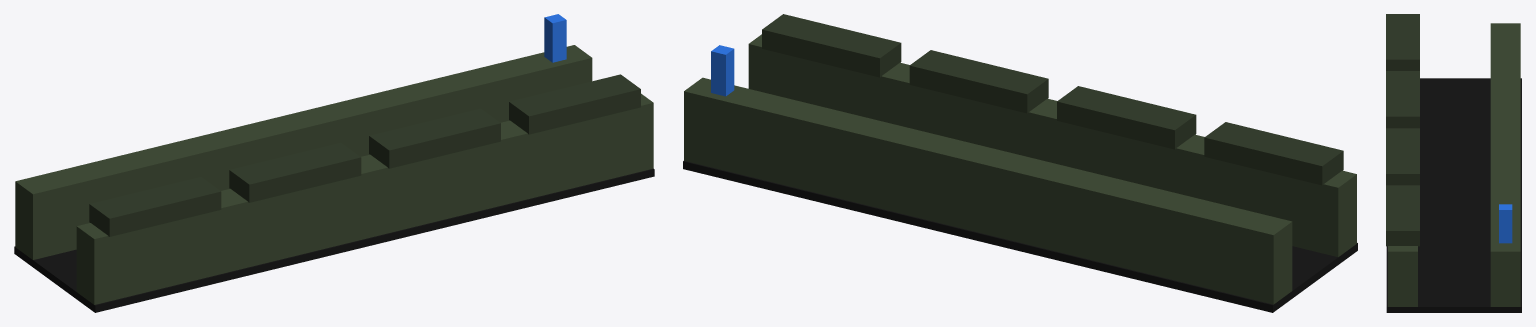
The model's file is ru_trench_line.glb.
3 views of the same model, side by side, from view 1: azimuth 30°, elevation 25°; view 2: azimuth 150°, elevation 25°; view 3: azimuth 270°, elevation 25° (orthographic). The views are drawn at different scales.
Parts seen in each view (by area): view 1: wall_0, wall_1, base, sandbag_1, sandbag_0, sandbag_3, sandbag_2, team_post; view 2: wall_1, wall_0, base, sandbag_0, sandbag_2, sandbag_3, sandbag_1, team_post; view 3: base, wall_1, sandbag_3, sandbag_1, sandbag_2, sandbag_0, wall_0, team_post.
Boxes of the visible parts, <box> form: wall_0: <box>76,93,653,304</box>; wall_1: <box>15,45,592,259</box>; base: <box>14,168,654,312</box>; sandbag_1: <box>229,142,361,202</box>; sandbag_0: <box>89,177,221,236</box>; sandbag_3: <box>509,74,640,134</box>; sandbag_2: <box>369,108,500,168</box>; team_post: <box>544,14,566,62</box>; wall_1: <box>684,77,1292,304</box>; wall_0: <box>748,34,1356,257</box>; base: <box>683,161,1357,312</box>; sandbag_0: <box>1204,122,1343,185</box>; sandbag_2: <box>909,50,1048,113</box>; sandbag_3: <box>762,14,901,77</box>; sandbag_1: <box>1057,86,1196,149</box>; team_post: <box>711,45,734,96</box>; base: <box>1386,78,1521,312</box>; wall_1: <box>1490,23,1520,306</box>; sandbag_3: <box>1386,185,1419,246</box>; sandbag_1: <box>1386,71,1419,128</box>; sandbag_2: <box>1386,128,1419,185</box>; sandbag_0: <box>1386,14,1419,70</box>; wall_0: <box>1388,246,1417,306</box>; team_post: <box>1499,204,1512,243</box>.
Bounding box in the file's own units: 8 × 1.54 × 2.01.
